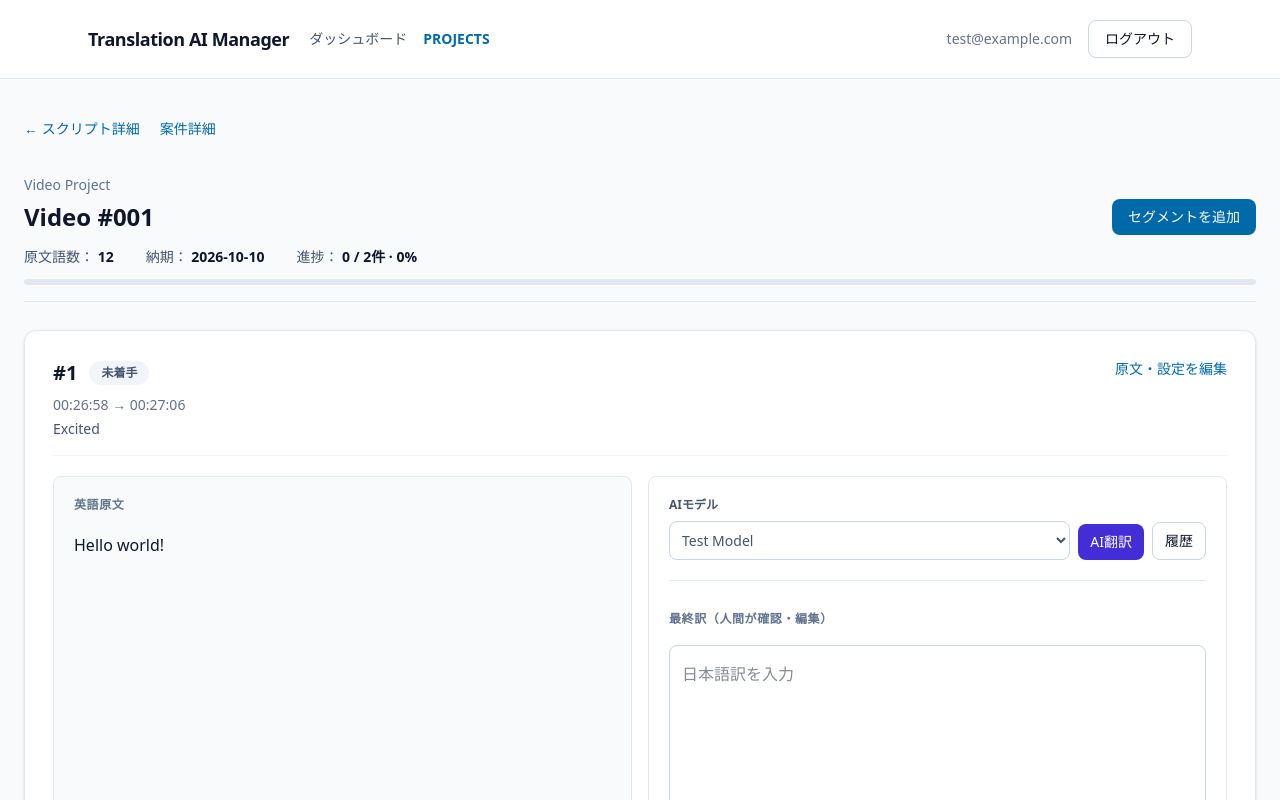
Test case: displays glossary history with この履歴には用語集の記録がありません。
Click the button "履歴".
click(1179, 541)  # box [1152,522,1206,560]
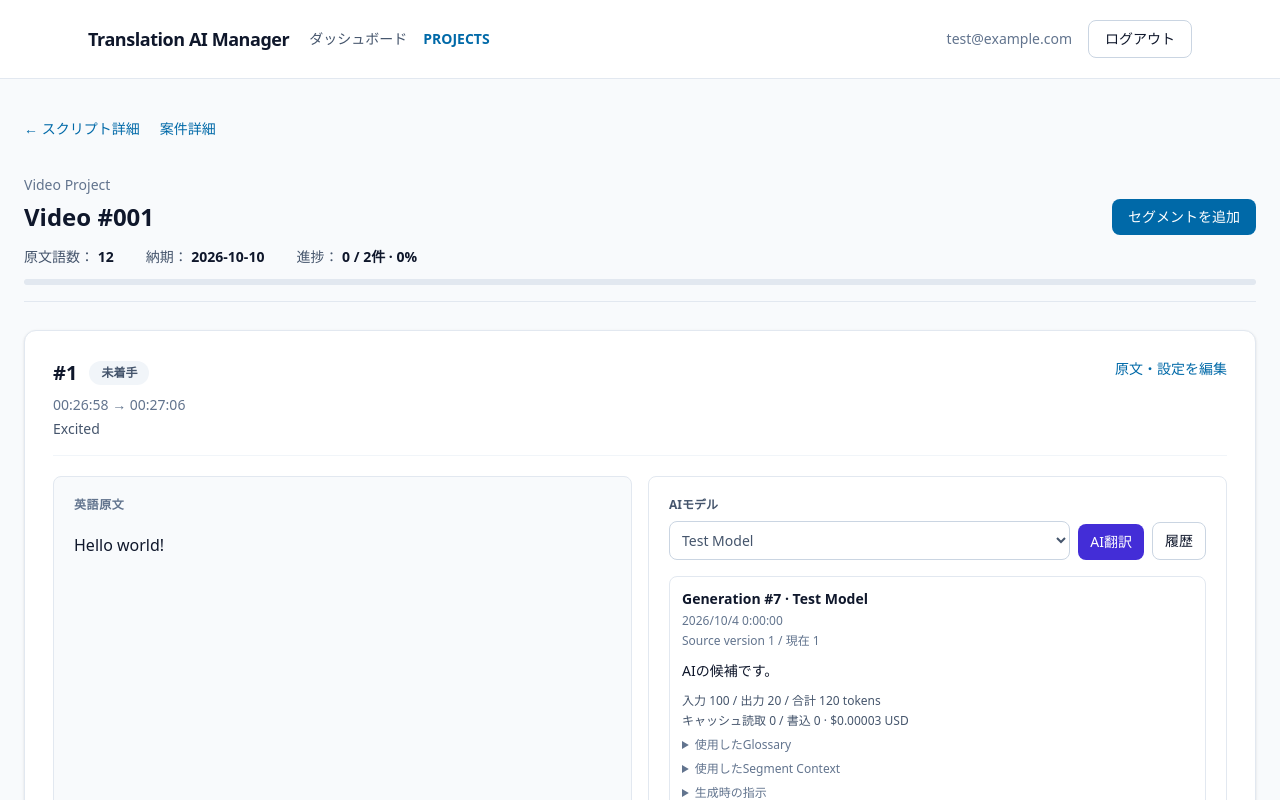
Click the heading "使用したGlossary".
click(743, 744)  # box [695,736,791,753]
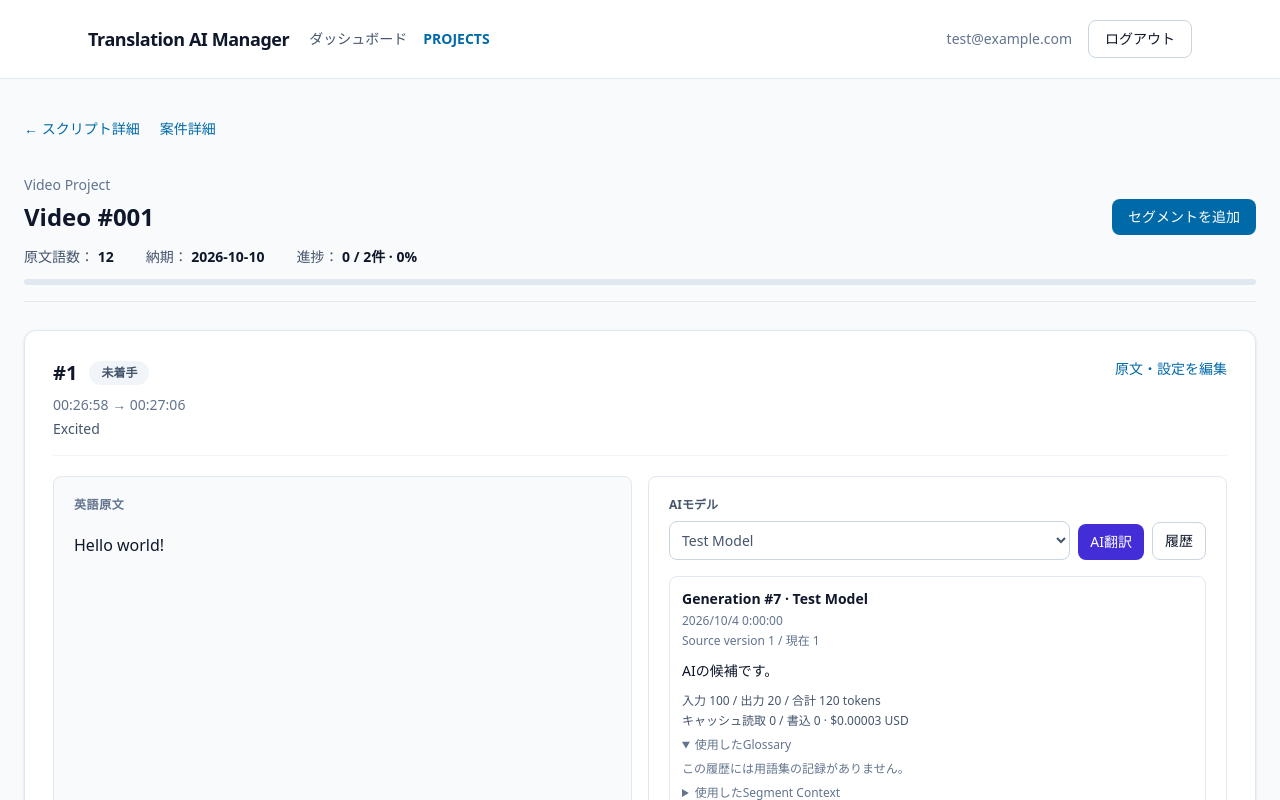
expect the text "この履歴には用語集の記録がありません。" is shown: met, box [682,760,910,777]
